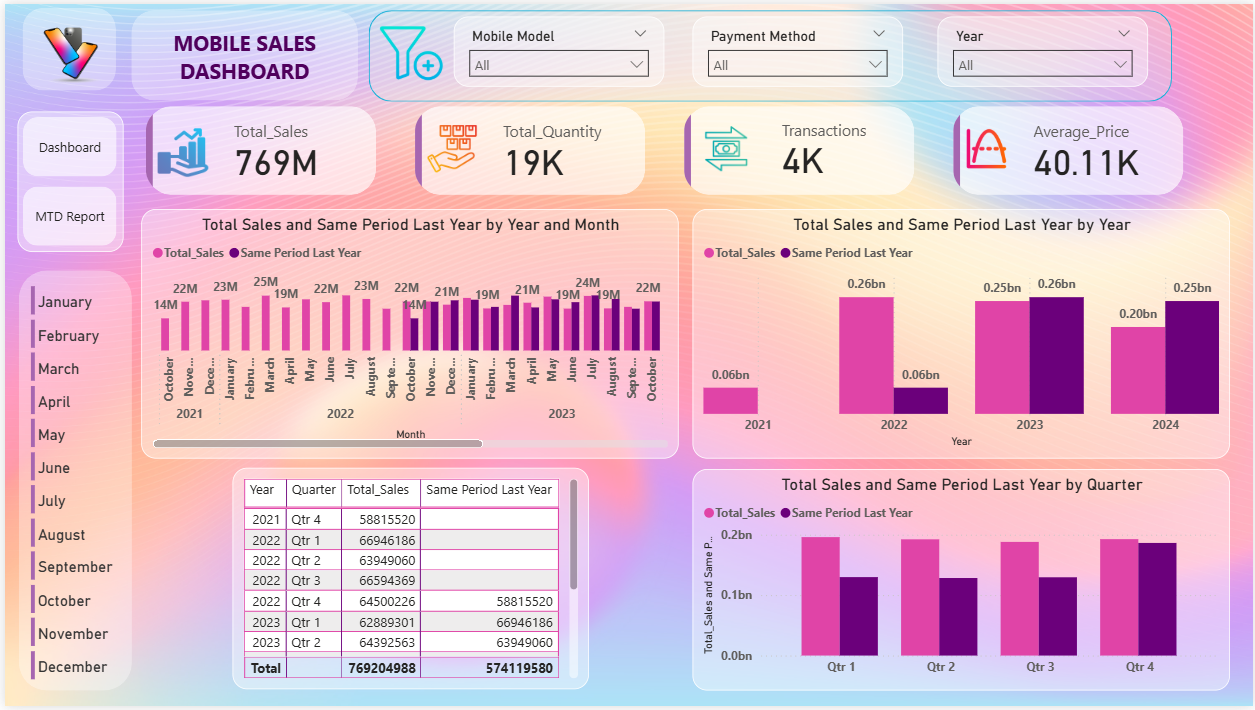

Layout of this report page (visuals, bound fields, positions):
{"tool":"powerbi","page":{"name":"Year-Over-Year","canvas":[1280,720],"ordinal":2},"visuals":[{"type":"shape","box":[18.3,4.2,95.8,85],"z":0},{"type":"image","box":[16.7,0,100.8,98.3],"z":1000},{"type":"shape","box":[372.5,6.2,823.8,93.8],"z":2000},{"type":"slicer","fields":{"Values":["Sales_Data.Mobile Model"]},"box":[460,13.3,216,72],"z":3000},{"type":"slicer","fields":{"Values":["Sales_Data.Payment Method"]},"box":[705.3,13.3,216,72],"z":4000},{"type":"slicer","fields":{"Values":["Custom_Calender.Date.Variation.Date Hierarchy.Year"]},"box":[956,13.3,216,72],"z":5000},{"type":"image","box":[372.5,1.2,87.5,98.8],"z":6000},{"type":"shape","box":[130,6.2,232.5,92.5],"z":7000},{"type":"textbox","box":[130,20,232.5,68.8],"z":8000},{"type":"shape","box":[13.8,272.5,116.2,431.2],"z":9000},{"type":"advancedSlicerVisual","fields":{"Values":["Custom_Calender.Date.Variation.Date Hierarchy.Month"]},"box":[21.2,285,108.8,418.8],"z":10000},{"type":"tableEx","fields":{"Values":["Custom_Calender.Date.Variation.Date Hierarchy.Year","Custom_Calender.Date.Variation.Date Hierarchy.Quarter","Sales_Data.Total_Sales","Sales_Data.Same Period Last Year"]},"box":[232.9,475.7,365.7,227.1],"z":11000},{"type":"clusteredColumnChart","title":"Total Sales and Same Period Last Year by Year","fields":{"Category":["Custom_Calender.Date.Variation.Date Hierarchy.Year","Custom_Calender.Date.Variation.Date Hierarchy.Quarter"],"Y":["Sales_Data.Total_Sales","Sales_Data.Same Period Last Year"]},"box":[705.7,210,551.4,255.7],"z":12000},{"type":"clusteredColumnChart","title":"Total Sales and Same Period Last Year by Year and Month","fields":{"Y":["Sales_Data.Total_Sales","Sales_Data.Same Period Last Year"],"Category":["Custom_Calender.Date.Variation.Date Hierarchy.Year","Custom_Calender.Date.Variation.Date Hierarchy.Month"]},"box":[140,210,551.4,255.7],"z":13000},{"type":"clusteredColumnChart","title":"Total Sales and Same Period Last Year by Quarter","fields":{"Category":["Custom_Calender.Date.Variation.Date Hierarchy.Year","Custom_Calender.Date.Variation.Date Hierarchy.Quarter"],"Y":["Sales_Data.Total_Sales","Sales_Data.Same Period Last Year"]},"box":[705.7,477.1,551.4,227.1],"z":14000},{"type":"pageNavigator","box":[12.9,110,108.6,144.3],"z":15000},{"type":"cardVisual","fields":{"Data":["Sales_Data.Total_Sales","Sales_Data.Total_Quantity","Sales_Data.Transactions","Sales_Data.Average_Price"]},"box":[140,100,1077.5,101.2],"z":16000}]}

Visuals, with their boxes in screenshot pixels (x1, y1, x2, y2), scaled from the page's 1280x720 canvas onto the 1255x710 screenshot:
shape: x1=18 y1=4 x2=112 y2=88
image: x1=16 y1=0 x2=115 y2=97
shape: x1=365 y1=6 x2=1173 y2=99
slicer - Sales_Data.Mobile Model: x1=451 y1=13 x2=663 y2=84
slicer - Sales_Data.Payment Method: x1=692 y1=13 x2=903 y2=84
slicer - Custom_Calender.Date.Variation.Date Hierarchy.Year: x1=937 y1=13 x2=1149 y2=84
image: x1=365 y1=1 x2=451 y2=99
shape: x1=127 y1=6 x2=355 y2=97
textbox: x1=127 y1=20 x2=355 y2=88
shape: x1=14 y1=269 x2=127 y2=694
advancedSlicerVisual - Custom_Calender.Date.Variation.Date Hierarchy.Month: x1=21 y1=281 x2=127 y2=694
tableEx - Custom_Calender.Date.Variation.Date Hierarchy.Year x Custom_Calender.Date.Variation.Date Hierarchy.Quarter: x1=228 y1=469 x2=587 y2=693
"Total Sales and Same Period Last Year by Year" clusteredColumnChart: x1=692 y1=207 x2=1233 y2=459
"Total Sales and Same Period Last Year by Year and Month" clusteredColumnChart: x1=137 y1=207 x2=678 y2=459
"Total Sales and Same Period Last Year by Quarter" clusteredColumnChart: x1=692 y1=470 x2=1233 y2=694
pageNavigator: x1=13 y1=108 x2=119 y2=251
cardVisual - Sales_Data.Total_Sales x Sales_Data.Total_Quantity: x1=137 y1=99 x2=1194 y2=198
